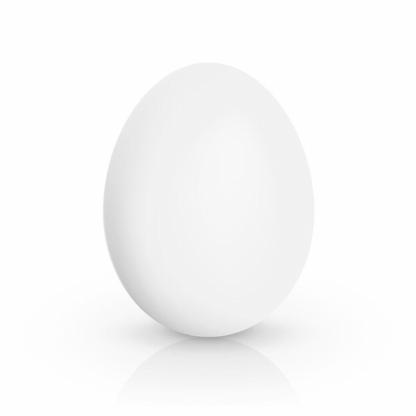egg: (101, 58, 323, 345)
